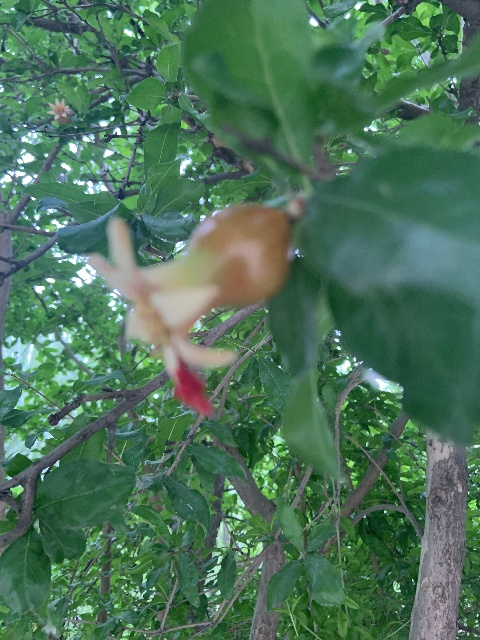early-fruit: (87, 202, 292, 420), (46, 97, 72, 126)
